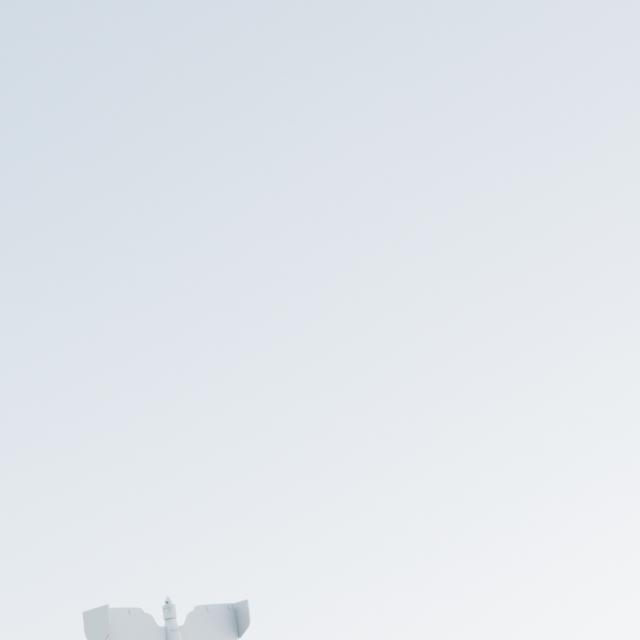Airaplan: (82, 595, 250, 640)
